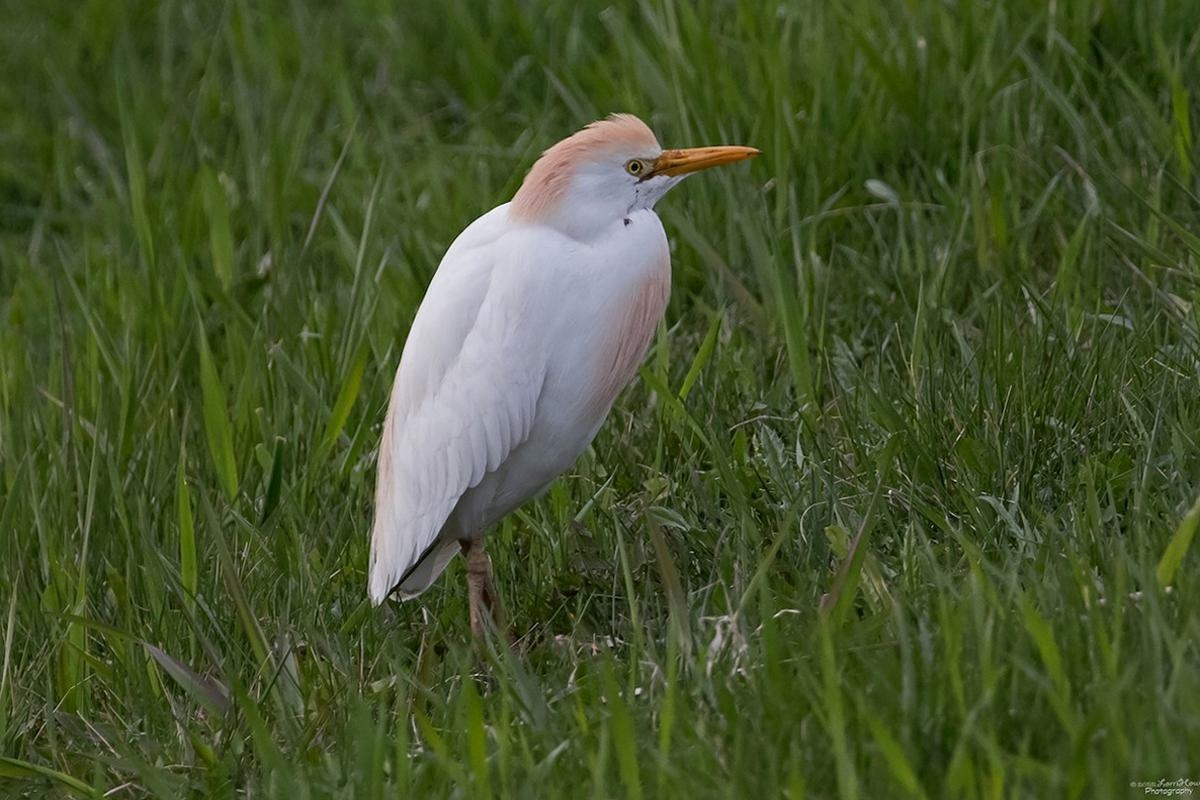egret: (325, 96, 770, 666)
